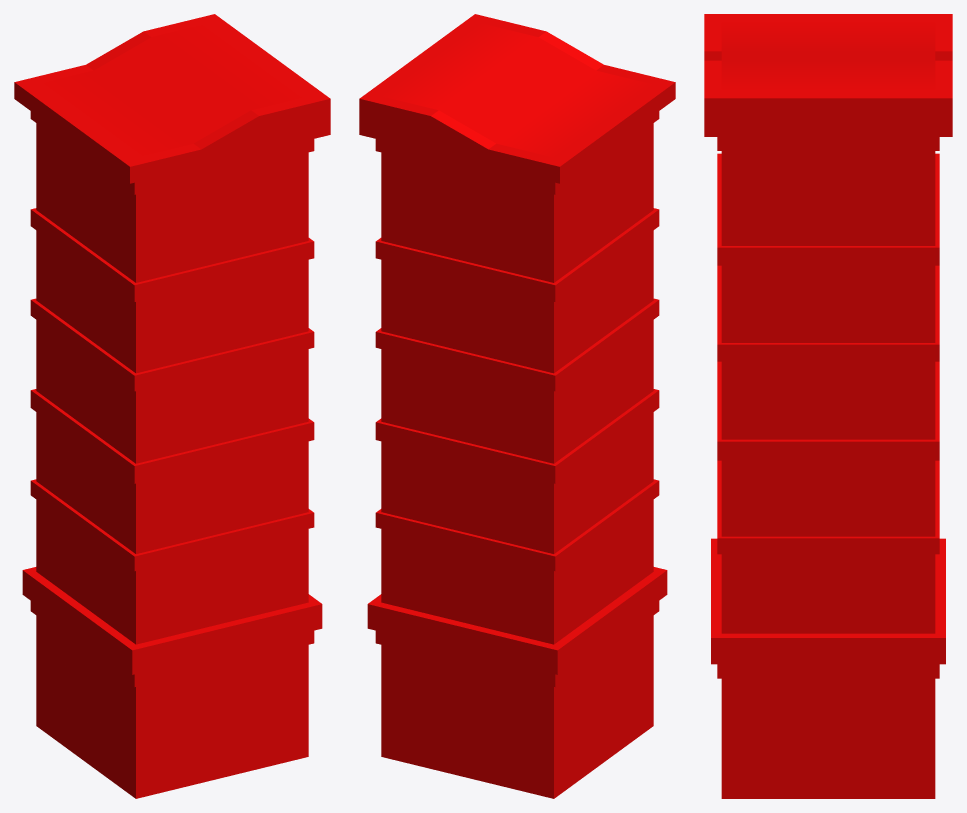
The model's file is largeBuilding_M_v2_athena.fbx.
3 views of the same model, side by side, from view 1: azimuth 30°, elevation 25°; view 2: azimuth 150°, elevation 25°; view 3: azimuth 270°, elevation 25° (orthographic). The views are drawn at different scales.
Parts seen in each view (by area): view 1: largeBuilding_M_v2_athena_Low; view 2: largeBuilding_M_v2_athena_Low; view 3: largeBuilding_M_v2_athena_Low.
Part boxes in pixels (x1,y1,x2,y2): largeBuilding_M_v2_athena_Low: (14,14,330,798); largeBuilding_M_v2_athena_Low: (359,14,675,798); largeBuilding_M_v2_athena_Low: (704,14,952,798).
Bounding box in the file's own units: 1160 × 3654 × 1160.
